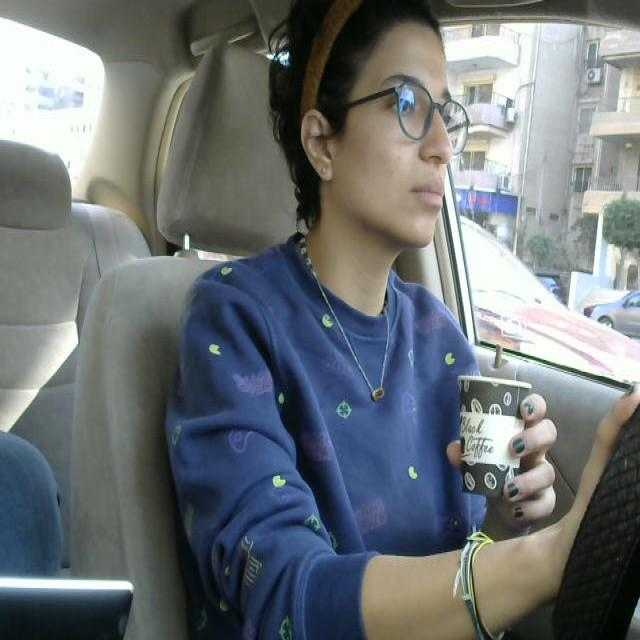drinking: (453, 364, 533, 508)
